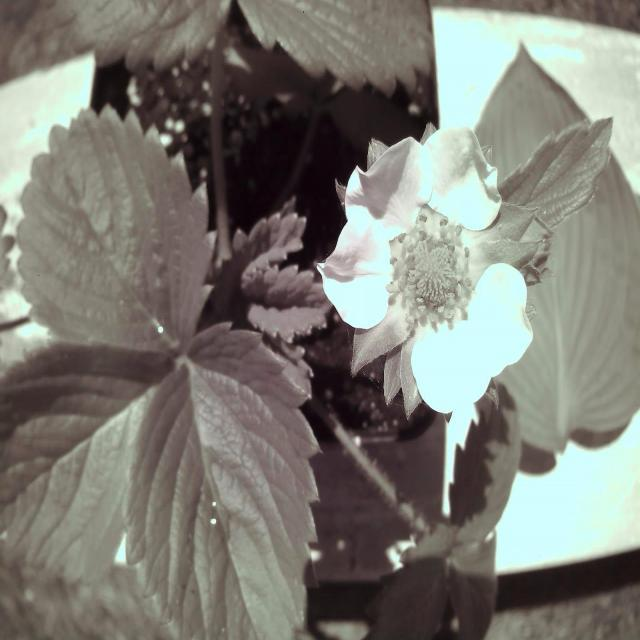flower: (314, 124, 538, 418)
